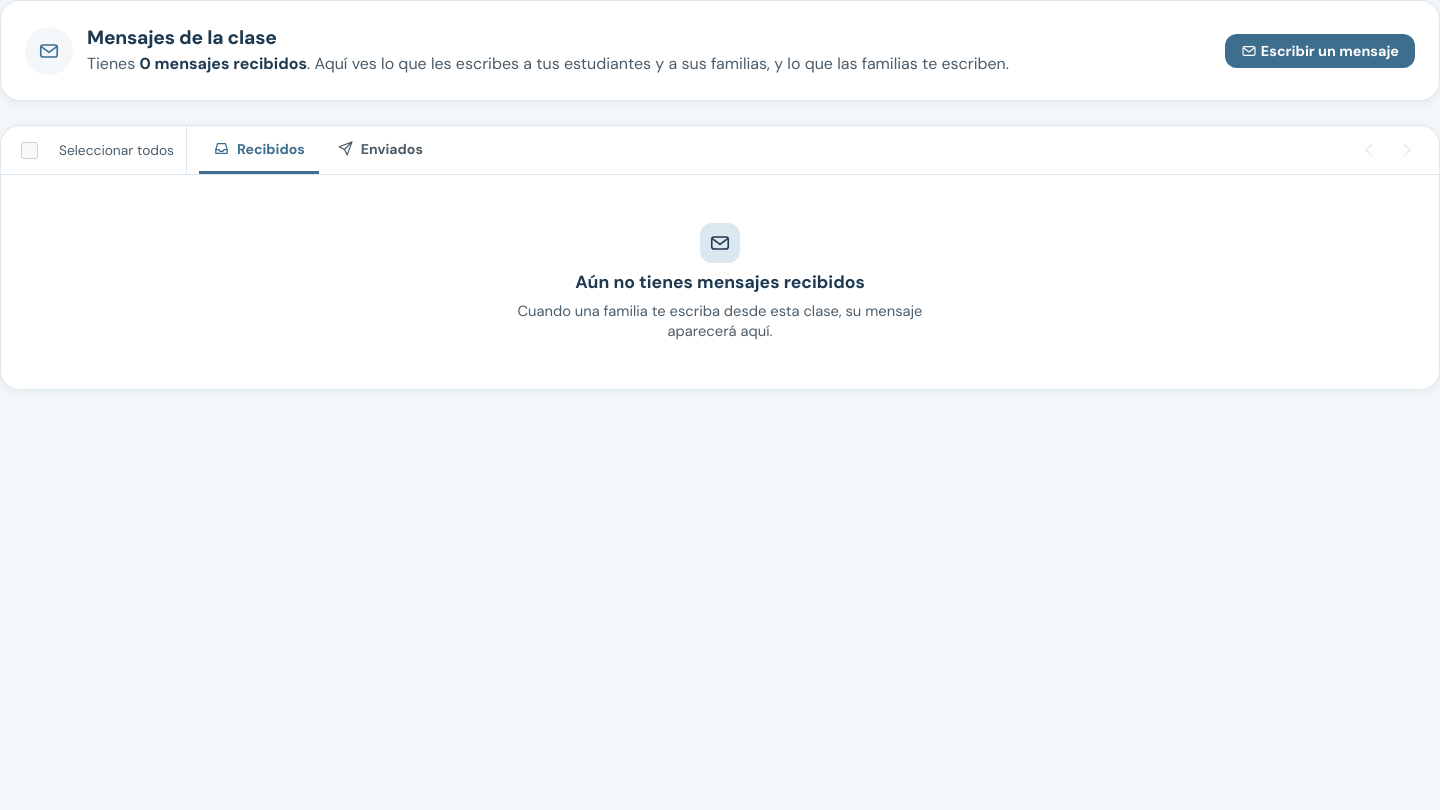
Test: the messages of a class (HU-77) › asks before throwing away what was written
This screenshot has width=1440, height=810.
Click the button "Escribir un mensaje". click: click(1320, 50)
box: [1225, 34, 1415, 68]
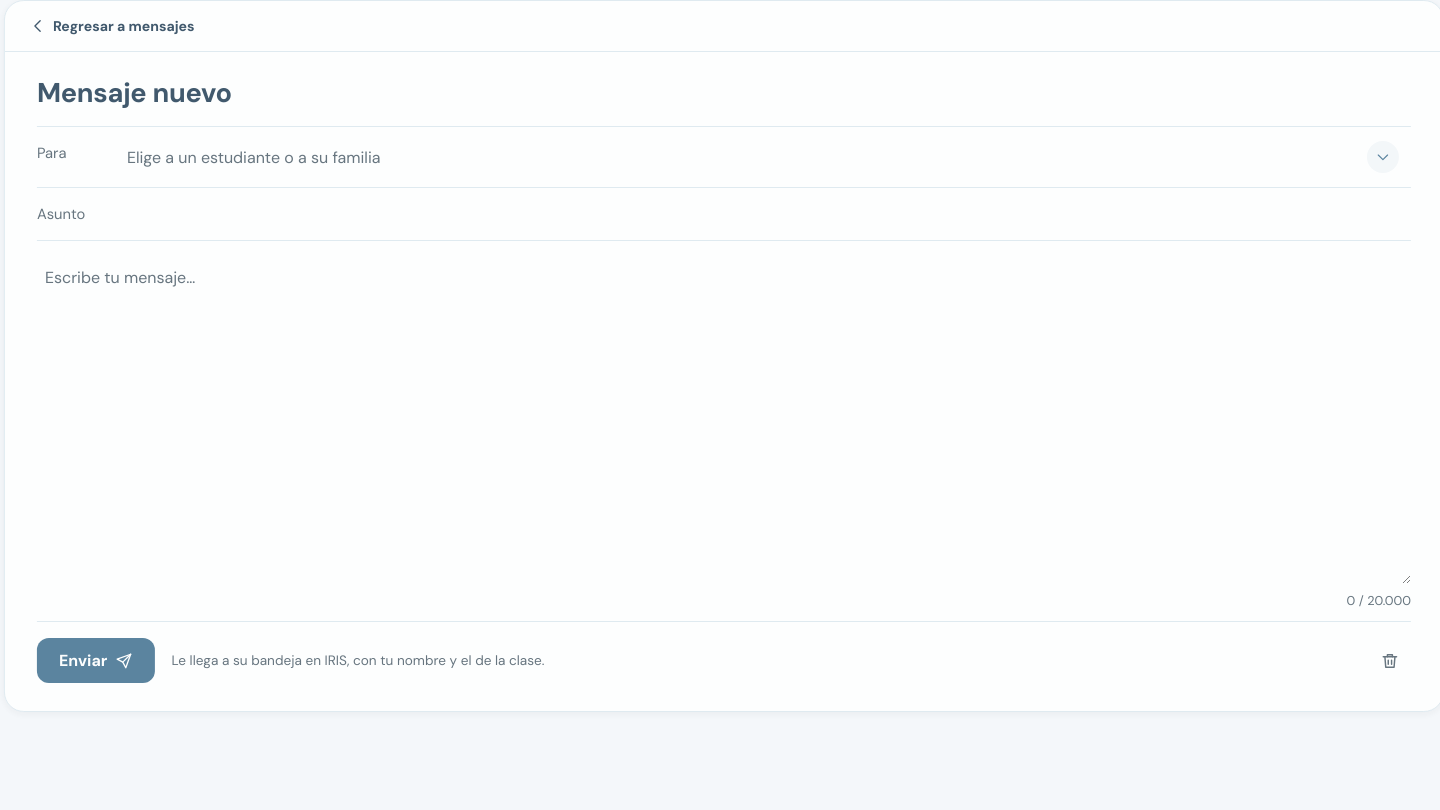
Type "Hola" into the text box with id "compose-body". click: (720, 419)
box: [33, 253, 1407, 584]
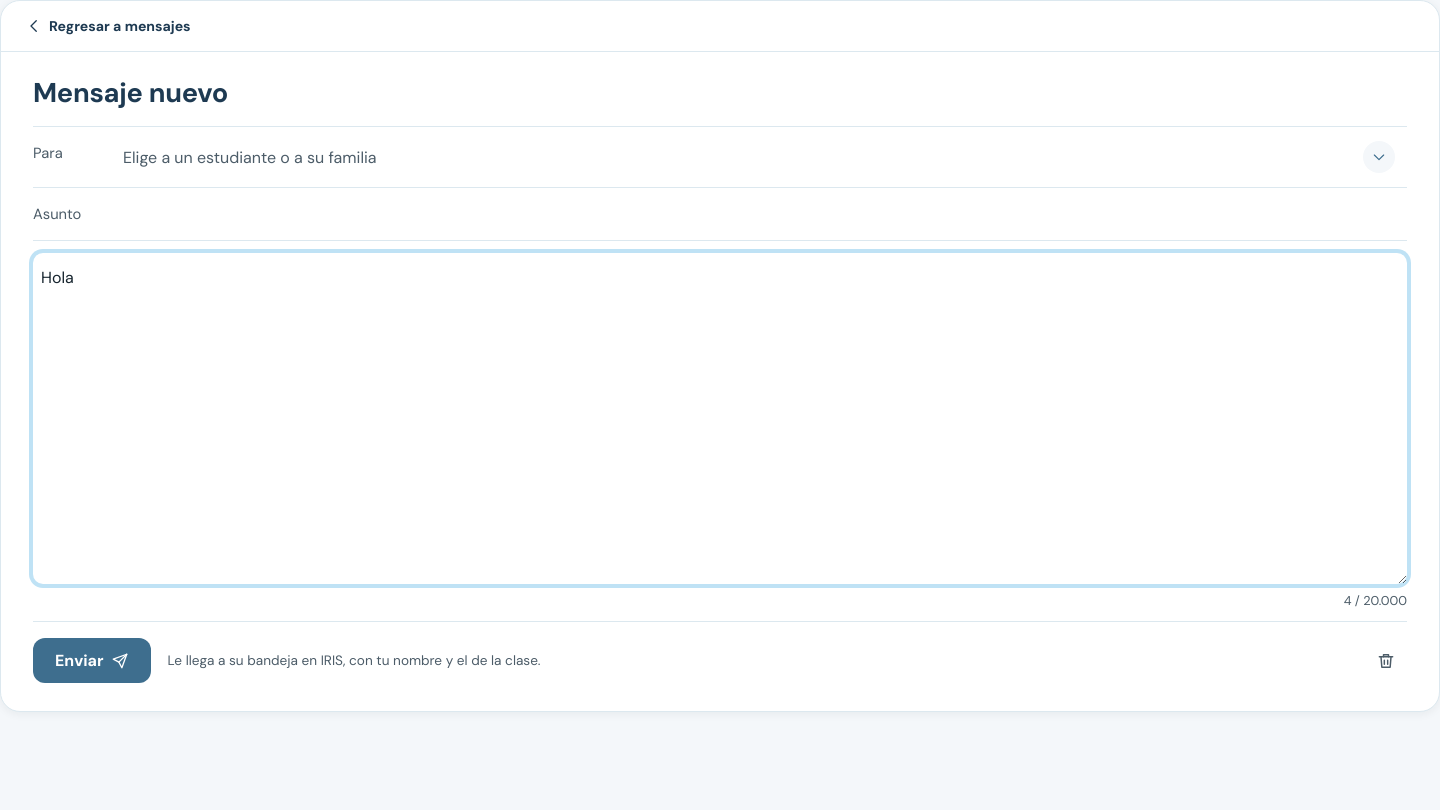
Click the button named "Descartar el mensaje". click: click(1386, 661)
box: [1365, 640, 1407, 682]
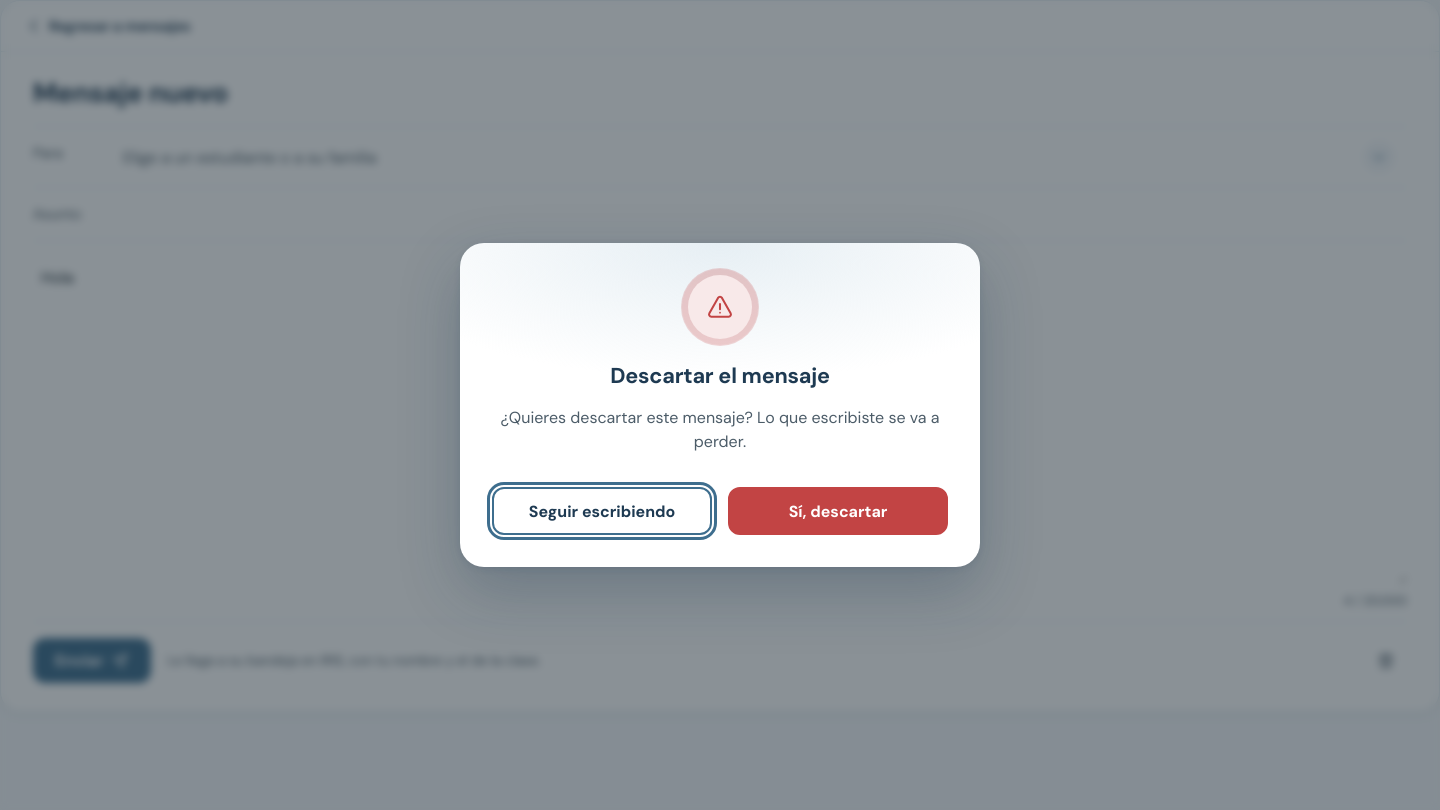
Check: the text "Lo que escribiste se va a perder" is shown, box [500, 407, 940, 452]
Click the button "Seguir escribiendo". click: click(602, 511)
box: [492, 487, 712, 535]
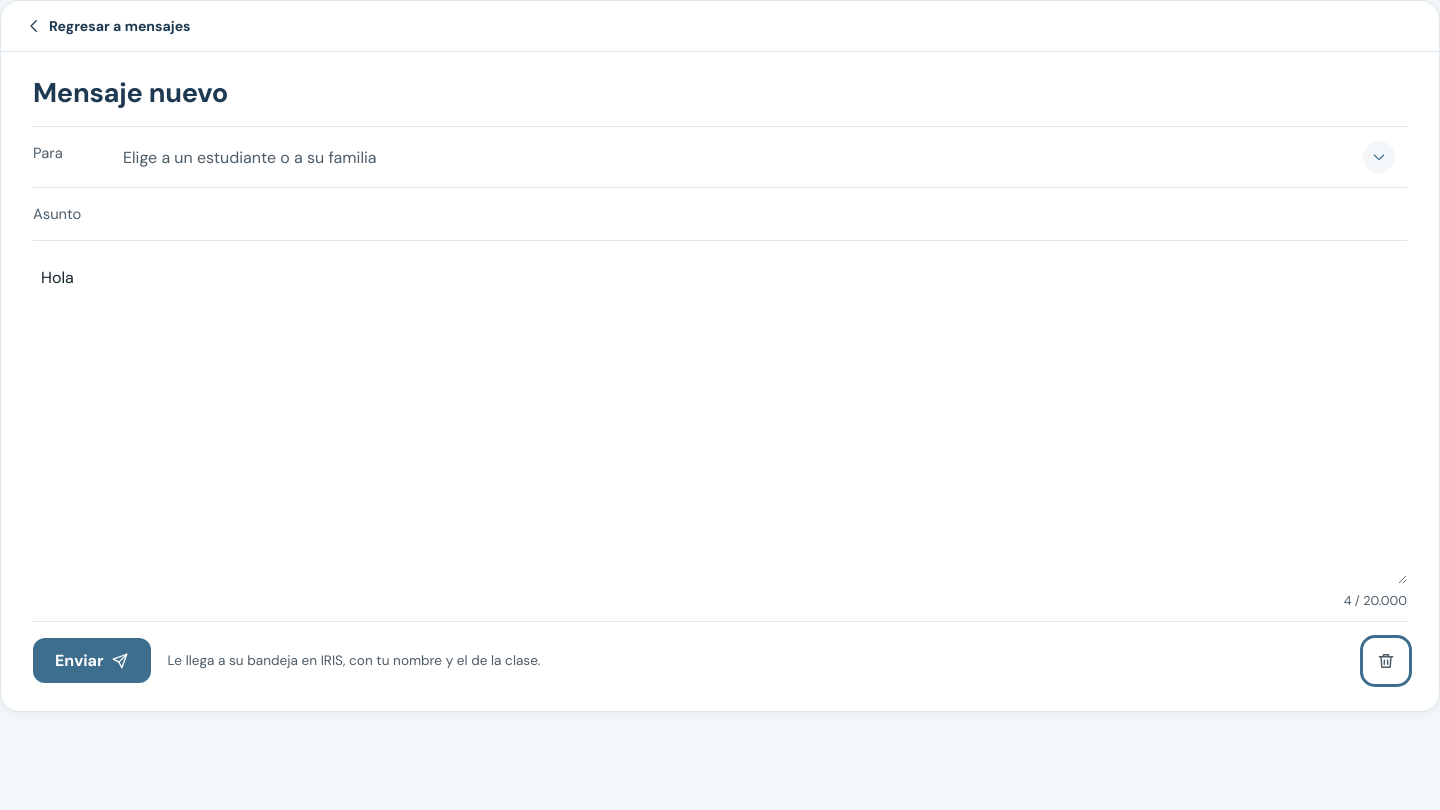
Click the button "Regresar a mensajes". click: click(108, 26)
box: [13, 9, 203, 43]
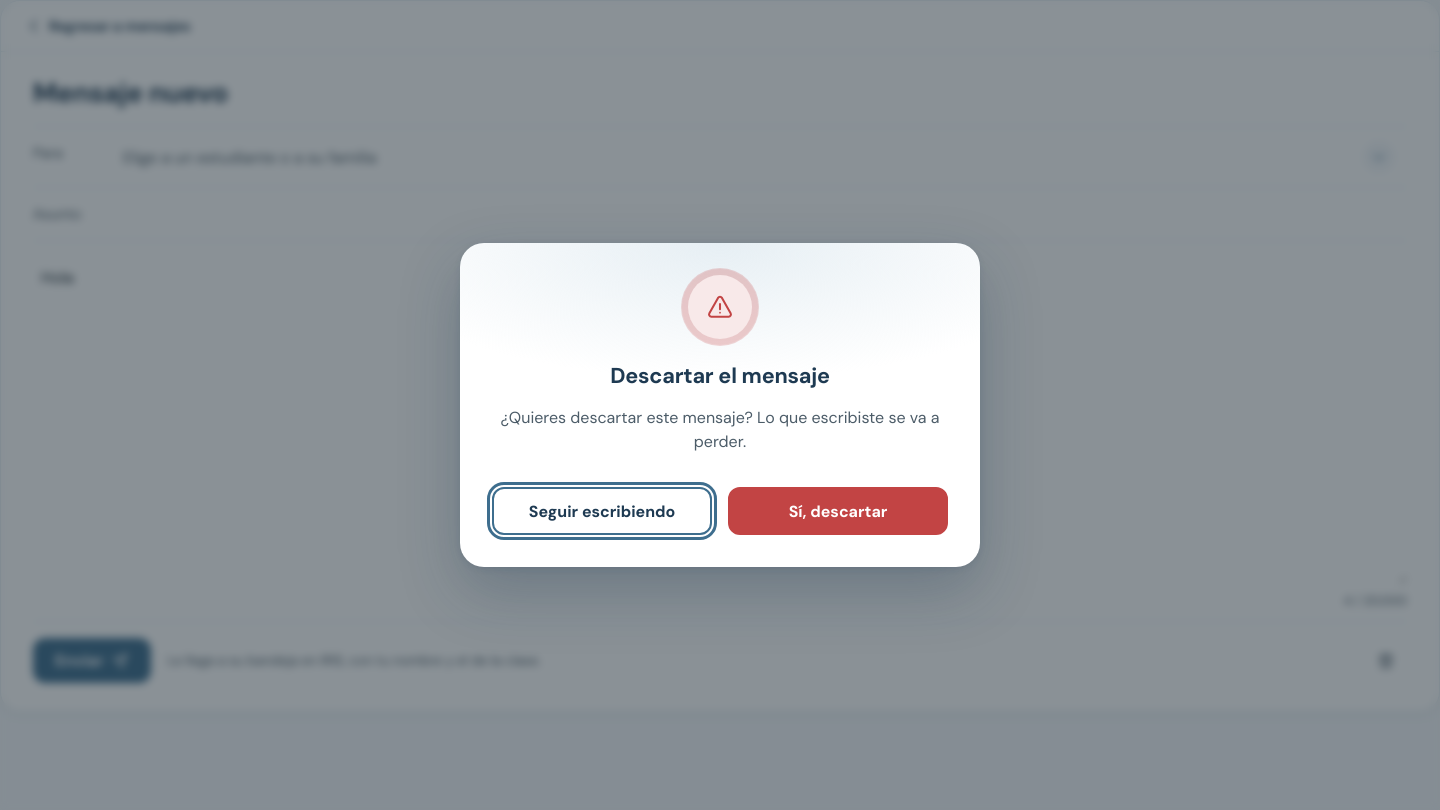
Click the button "Sí, descartar". click: click(838, 511)
box: [728, 487, 948, 535]
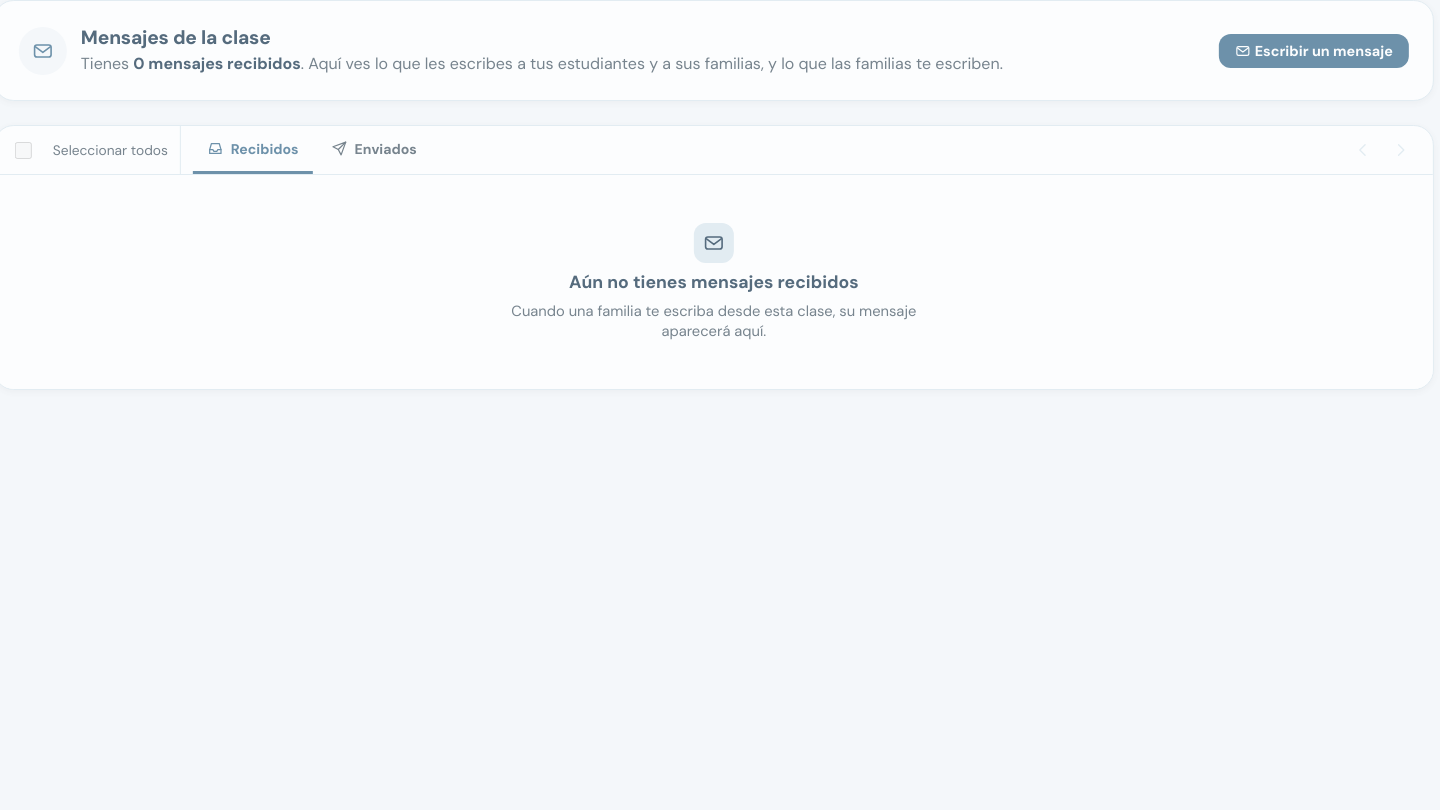
Check: the button "Escribir un mensaje" is shown, box [1225, 34, 1415, 68]
